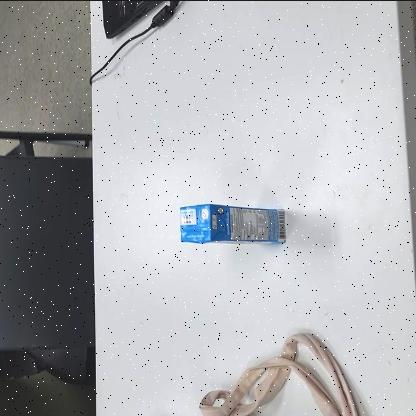Others: (172, 198, 296, 250)
